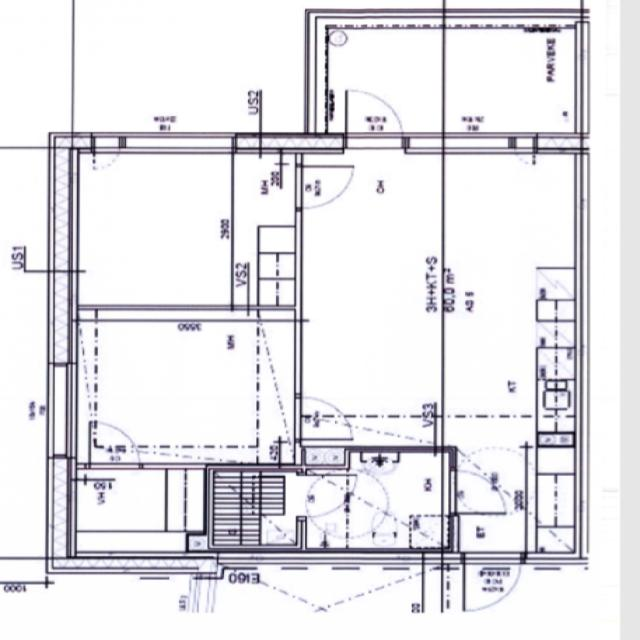door: (462, 558, 520, 612), (343, 86, 403, 138), (448, 465, 505, 515), (296, 166, 351, 212), (302, 469, 350, 519), (297, 394, 348, 441), (86, 418, 140, 462), (88, 135, 122, 175), (510, 137, 541, 173)
window: (48, 360, 82, 463), (402, 131, 521, 156), (118, 134, 235, 155), (340, 131, 408, 153)
zone: (296, 152, 443, 438), (80, 316, 296, 464), (71, 148, 242, 314), (441, 27, 582, 140), (299, 448, 449, 552), (316, 24, 444, 133), (69, 465, 207, 557)
